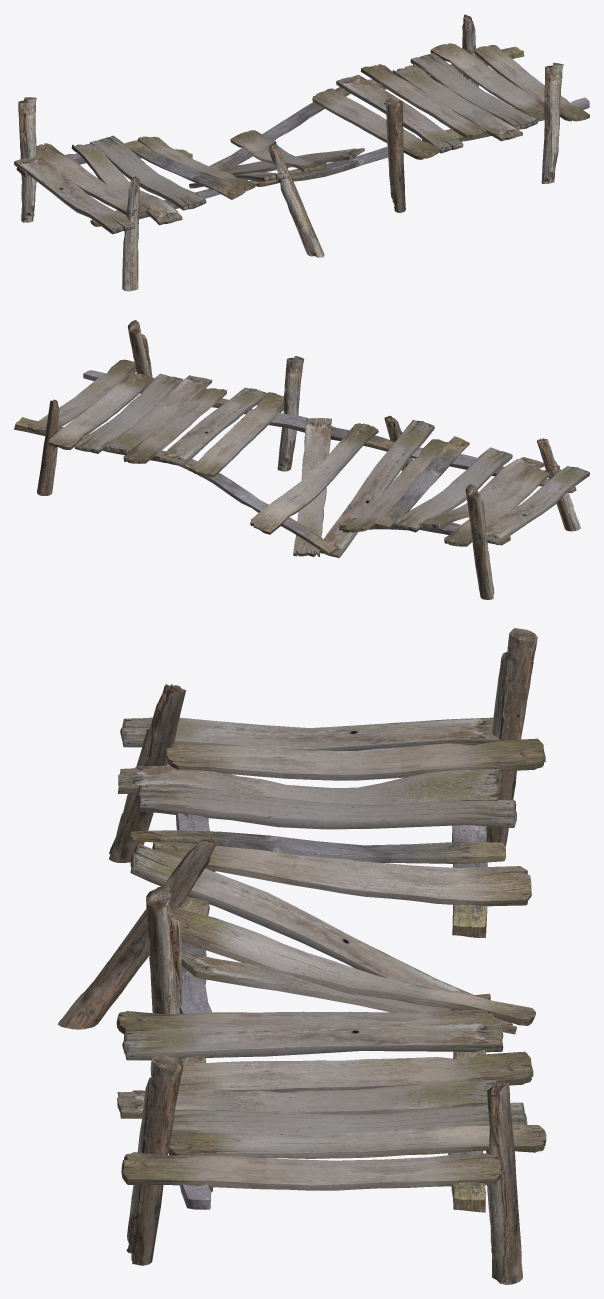
File: SM_WoodPlank_01_16_bridge.fbx
3 views of the same model, one above another, from view 1: azimuth 30°, elevation 25°; view 2: azimuth 150°, elevation 25°; view 3: azimuth 270°, elevation 25° (orthographic). The views are drawn at different scales.
Visible parts, largest first — view 1: sm_WoodPlank_01_16_bridge_LOD0; view 2: sm_WoodPlank_01_16_bridge_LOD0; view 3: sm_WoodPlank_01_16_bridge_LOD0.
Boxes of the visible parts, x1,y1,x2,y2 form: sm_WoodPlank_01_16_bridge_LOD0: (14,14,589,291); sm_WoodPlank_01_16_bridge_LOD0: (14,320,589,599); sm_WoodPlank_01_16_bridge_LOD0: (57,628,546,1284).
Bounding box in the file's own units: 193 × 445 × 101.
